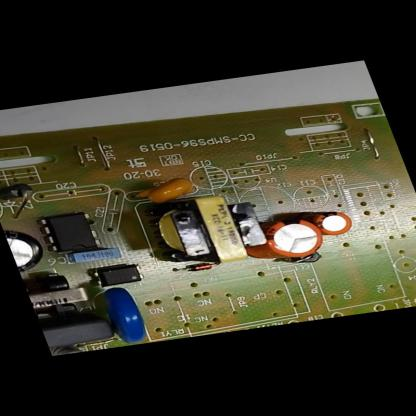Cap1: (259, 216, 328, 260)
Cap2: (312, 209, 356, 238)
Cap3: (4, 227, 51, 272)
MOSFET: (40, 212, 102, 252)
Mov: (103, 286, 151, 344)
Resistor: (49, 344, 85, 356)
Transformer: (142, 191, 272, 270), (22, 271, 94, 322)
